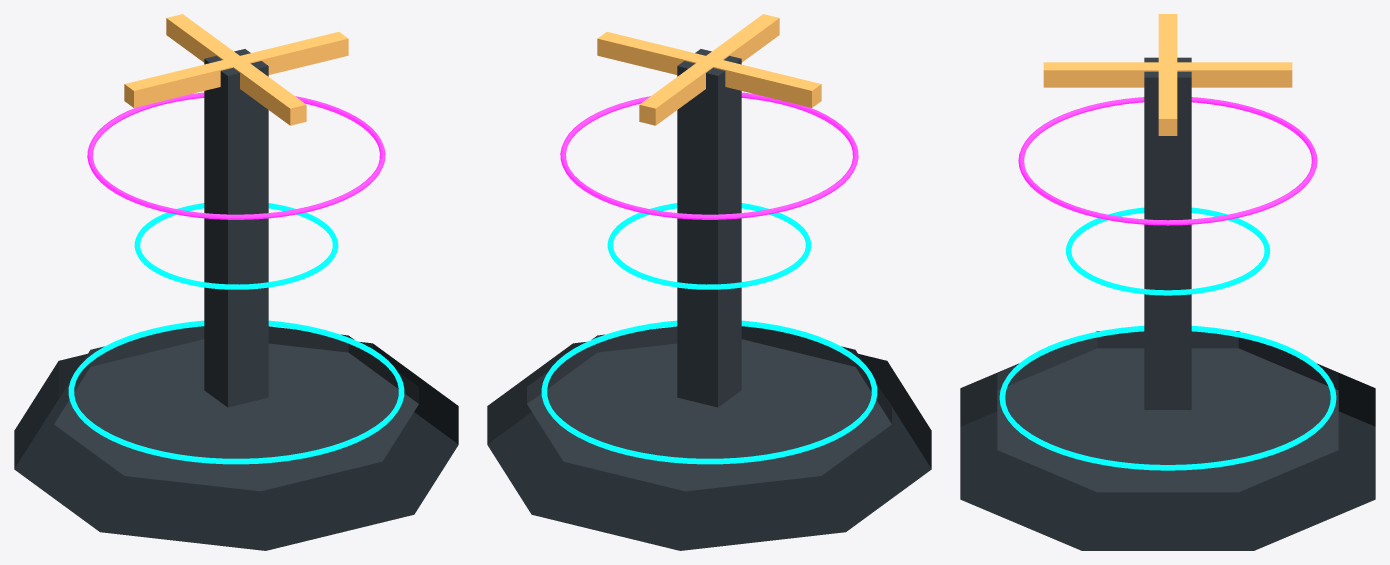
Rendered from district_communications.glb.
The picture shows the model from 3 angles, left to right: view 1: azimuth 30°, elevation 25°; view 2: azimuth 150°, elevation 25°; view 3: azimuth 270°, elevation 25°; orthographic projection.
Parts seen in each view (by area): view 1: district_communications_upper_plate, district_communications_octagonal_base, district_communications_mast_core, district_communications_antenna_fin_x, district_communications_base_cyan_circuit, district_communications_antenna_fin_z, district_communications_signal_ring_upper, district_communications_signal_ring_lower; view 2: district_communications_upper_plate, district_communications_octagonal_base, district_communications_mast_core, district_communications_antenna_fin_x, district_communications_base_cyan_circuit, district_communications_antenna_fin_z, district_communications_signal_ring_upper, district_communications_signal_ring_lower; view 3: district_communications_upper_plate, district_communications_octagonal_base, district_communications_mast_core, district_communications_antenna_fin_z, district_communications_base_cyan_circuit, district_communications_signal_ring_upper, district_communications_signal_ring_lower, district_communications_antenna_fin_x.
Boxes of the visible parts, box(x1,y1,x2,y2) form: district_communications_upper_plate: box(54, 326, 418, 491); district_communications_octagonal_base: box(14, 342, 458, 550); district_communications_mast_core: box(204, 49, 268, 407); district_communications_antenna_fin_x: box(124, 32, 348, 107); district_communications_base_cyan_circuit: box(68, 320, 404, 464); district_communications_antenna_fin_z: box(166, 14, 306, 125); district_communications_signal_ring_upper: box(87, 92, 385, 219); district_communications_signal_ring_lower: box(134, 203, 338, 289); district_communications_upper_plate: box(527, 326, 891, 491); district_communications_octagonal_base: box(487, 342, 931, 550); district_communications_mast_core: box(677, 49, 741, 407); district_communications_antenna_fin_x: box(597, 32, 821, 107); district_communications_base_cyan_circuit: box(541, 320, 877, 464); district_communications_antenna_fin_z: box(639, 14, 779, 125); district_communications_signal_ring_upper: box(560, 92, 858, 219); district_communications_signal_ring_lower: box(607, 203, 811, 289); district_communications_upper_plate: box(997, 331, 1338, 492); district_communications_octagonal_base: box(960, 363, 1375, 550); district_communications_mast_core: box(1144, 57, 1191, 409); district_communications_antenna_fin_z: box(1043, 62, 1292, 87); district_communications_base_cyan_circuit: box(999, 326, 1336, 470); district_communications_signal_ring_upper: box(1018, 97, 1317, 225); district_communications_signal_ring_lower: box(1065, 207, 1270, 295); district_communications_antenna_fin_x: box(1158, 14, 1177, 135).
Bounding box in the file's own units: 1.76 × 1.85 × 1.76.
